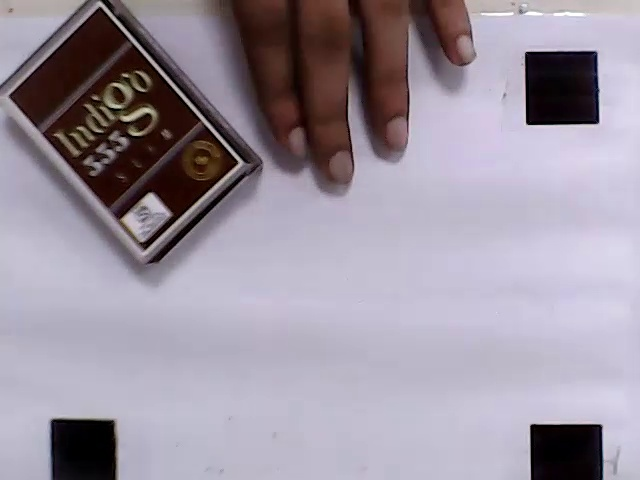BEX: (2, 2, 243, 255)
